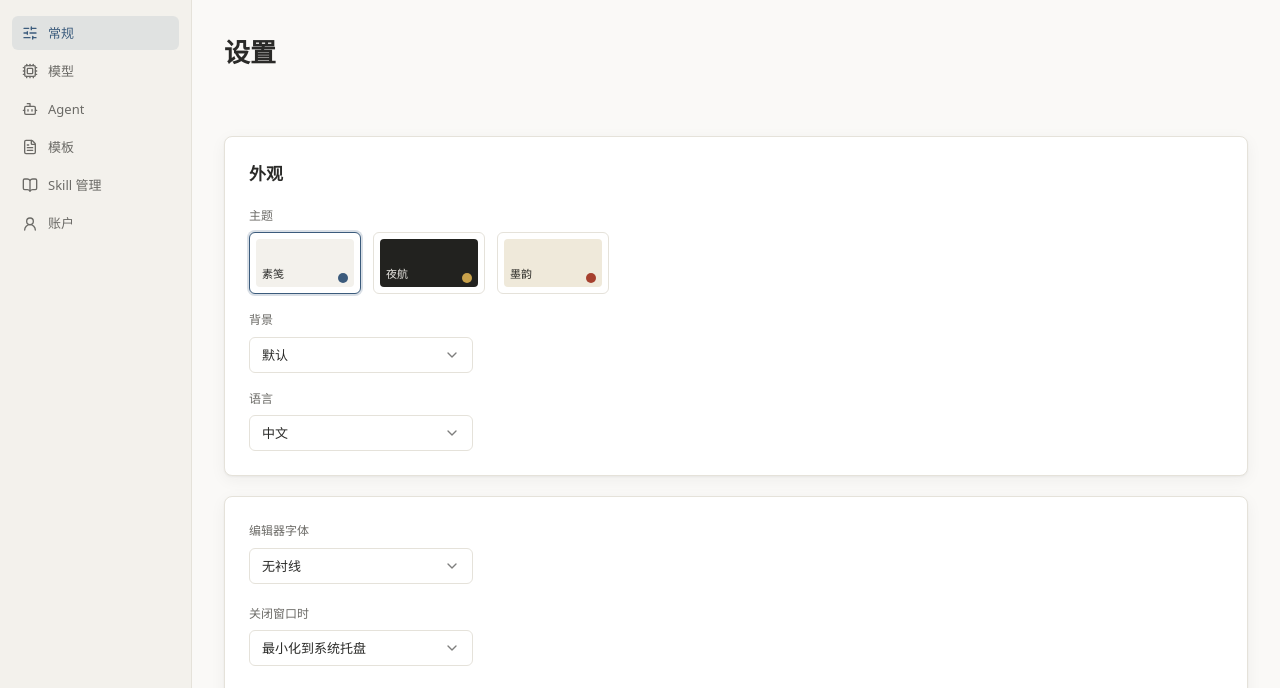
Test: 设置页 — #199 保存反馈统一化（顶部「已保存」） › 关闭窗口时 Select 切换「直接退出」→ 顶部「已保存」（closeBehavior 即改即存反馈）
Click the dropdown named "关闭窗口时" at (361,648), box [249,630,473,666]
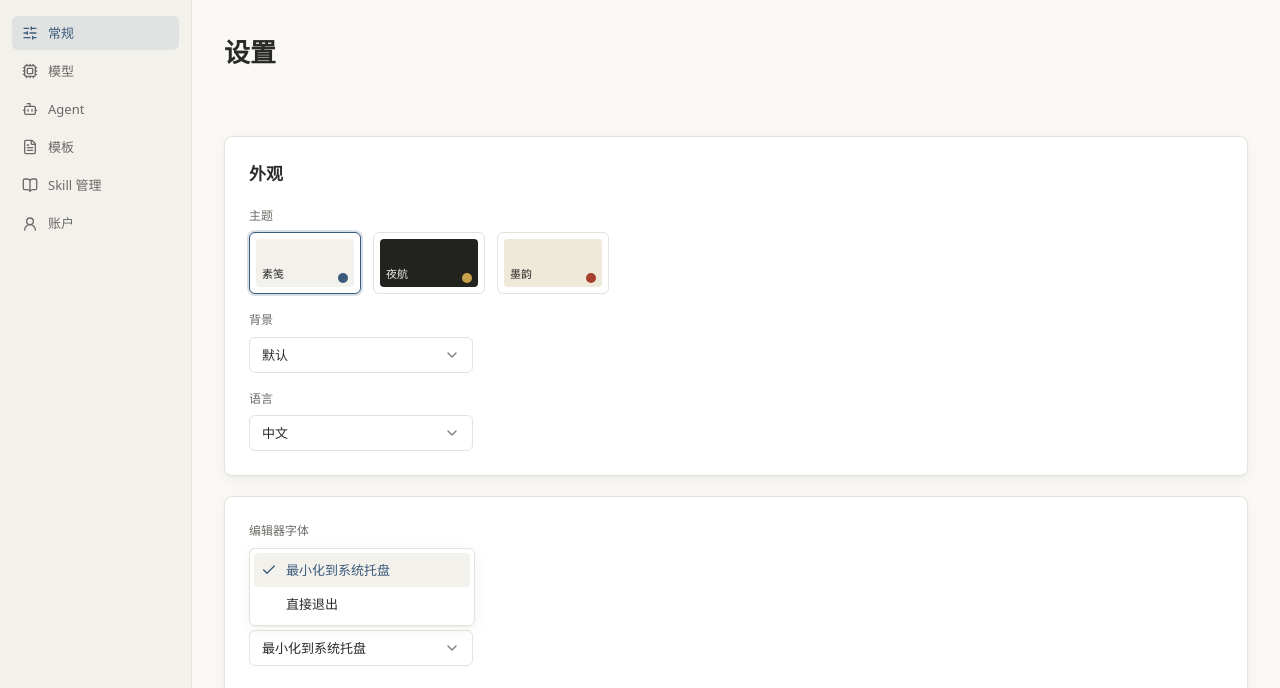
Click the option "直接退出" at (312,604), box [286,595,338,613]
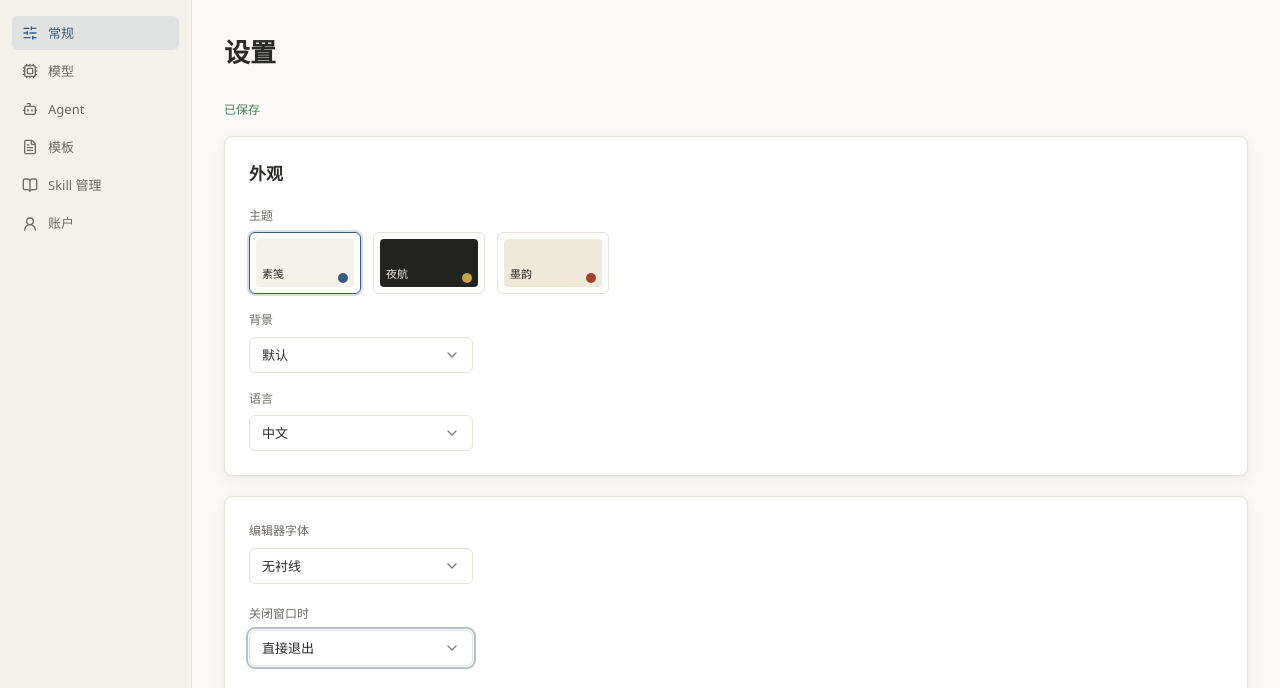
Expected: the text with test id "settings-save-indicator" reads "已保存", [224,101,260,118]
